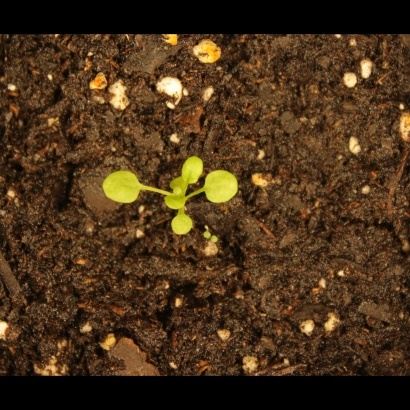leaf: (99, 163, 150, 210), (201, 170, 245, 205), (179, 150, 205, 185), (169, 212, 199, 239), (162, 188, 191, 213)
